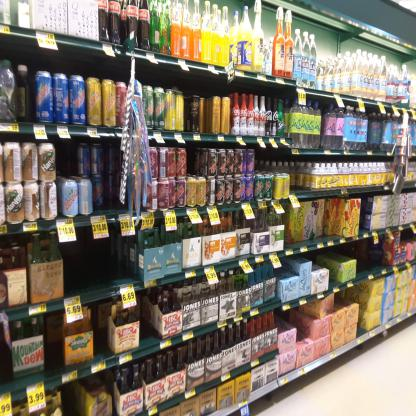Void: (65, 244, 135, 288), (43, 316, 64, 368), (92, 309, 111, 357), (256, 146, 290, 170), (359, 239, 385, 267), (56, 141, 76, 173), (140, 302, 156, 338), (186, 144, 204, 173), (63, 387, 80, 412), (334, 290, 361, 303), (298, 306, 306, 336), (277, 307, 288, 324), (316, 252, 326, 266)
